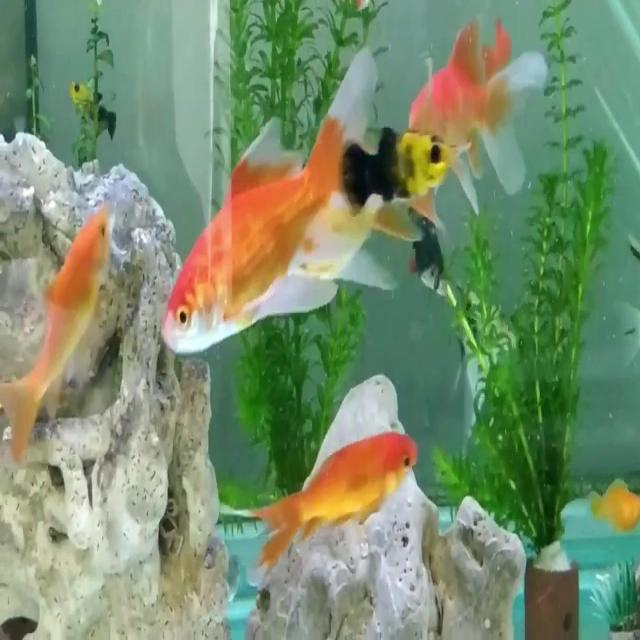GoldFish: (146, 41, 410, 368), (0, 189, 126, 495), (236, 414, 432, 590), (410, 18, 544, 181)
